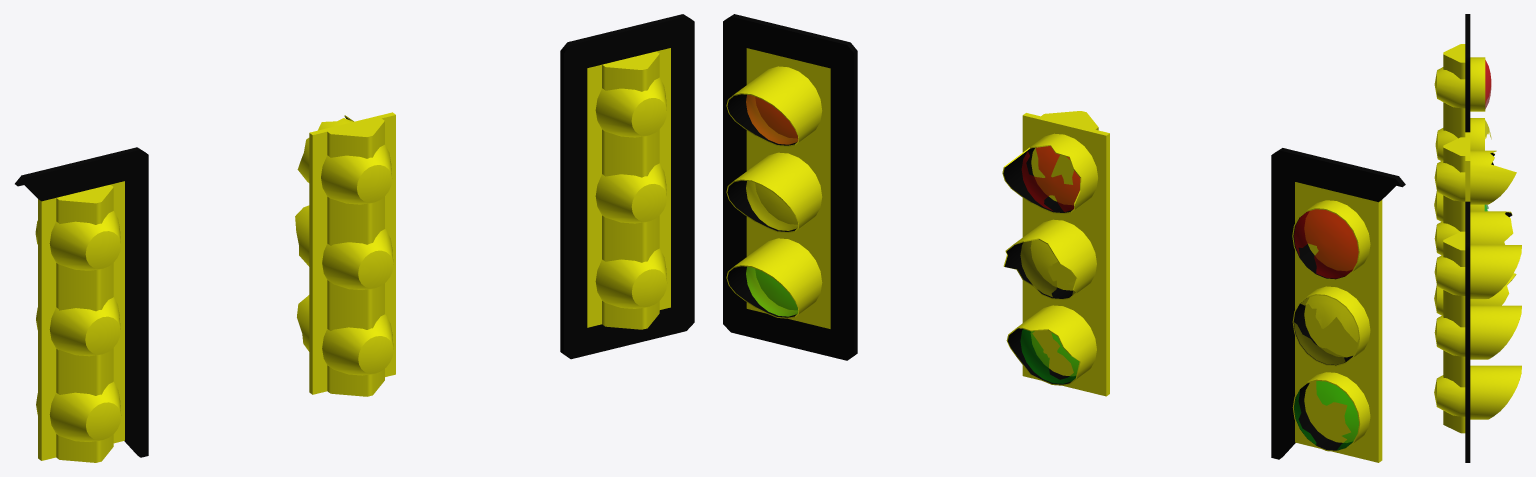
The model's file is Traffic Lights.fbx.
3 renders of one model, left to right at view 1: azimuth 30°, elevation 25°; view 2: azimuth 150°, elevation 25°; view 3: azimuth 270°, elevation 25°, orthographic. The views are drawn at different scales.
Visible parts, largest first — view 1: pCube1, pCube3, pCube2, polySurface13, polySurface5, polySurface3, polySurface15, polySurface7, pCylinder9, pCylinder8, pCylinder4, polySurface9; view 2: pCube1, pCube3, pCube2, pCylinder4, pCylinder8, pCylinder9, polySurface13, polySurface3, polySurface5, polySurface8, polySurface7, polySurface9 (+6 smaller); view 3: pCube1, pCylinder9, pCylinder8, pCylinder4, polySurface5, pCube3, polySurface7, polySurface13, pCube2, polySurface9, polySurface3, polySurface15 (+1 smaller).
Part boxes in pixels (x1,y1,x2,y2): pCube1: [560, 14, 694, 359]; pCube3: [15, 147, 148, 462]; pCube2: [309, 112, 395, 396]; polySurface13: [295, 205, 393, 289]; polySurface5: [297, 115, 392, 204]; polySurface3: [297, 295, 393, 375]; polySurface15: [36, 381, 121, 441]; polySurface7: [35, 211, 120, 270]; pCylinder9: [595, 248, 667, 308]; pCylinder8: [595, 163, 666, 223]; pCylinder4: [595, 77, 666, 137]; polySurface9: [36, 297, 120, 356]; pCube1: [723, 14, 857, 360]; pCube3: [1271, 148, 1405, 462]; pCube2: [1022, 111, 1109, 396]; pCylinder4: [726, 66, 822, 146]; pCylinder8: [726, 152, 822, 232]; pCylinder9: [726, 238, 822, 318]; polySurface13: [1003, 219, 1096, 299]; polySurface3: [1006, 305, 1096, 385]; polySurface5: [1002, 133, 1097, 213]; polySurface8: [1294, 209, 1358, 278]; polySurface7: [1292, 200, 1370, 280]; polySurface9: [1292, 286, 1370, 366]; pCube1: [1443, 201, 1470, 462]; pCylinder9: [1434, 365, 1521, 419]; pCylinder8: [1434, 305, 1521, 359]; pCylinder4: [1434, 245, 1521, 299]; polySurface5: [1434, 150, 1516, 204]; pCube3: [1443, 14, 1470, 138]; polySurface7: [1434, 57, 1485, 111]; polySurface13: [1434, 211, 1513, 255]; pCube2: [1443, 132, 1470, 231]; polySurface9: [1435, 118, 1484, 160]; polySurface3: [1434, 273, 1516, 315]; polySurface15: [1434, 191, 1484, 221].
Size of the model in its own units: 20.15 by 8.95 by 3.21.
